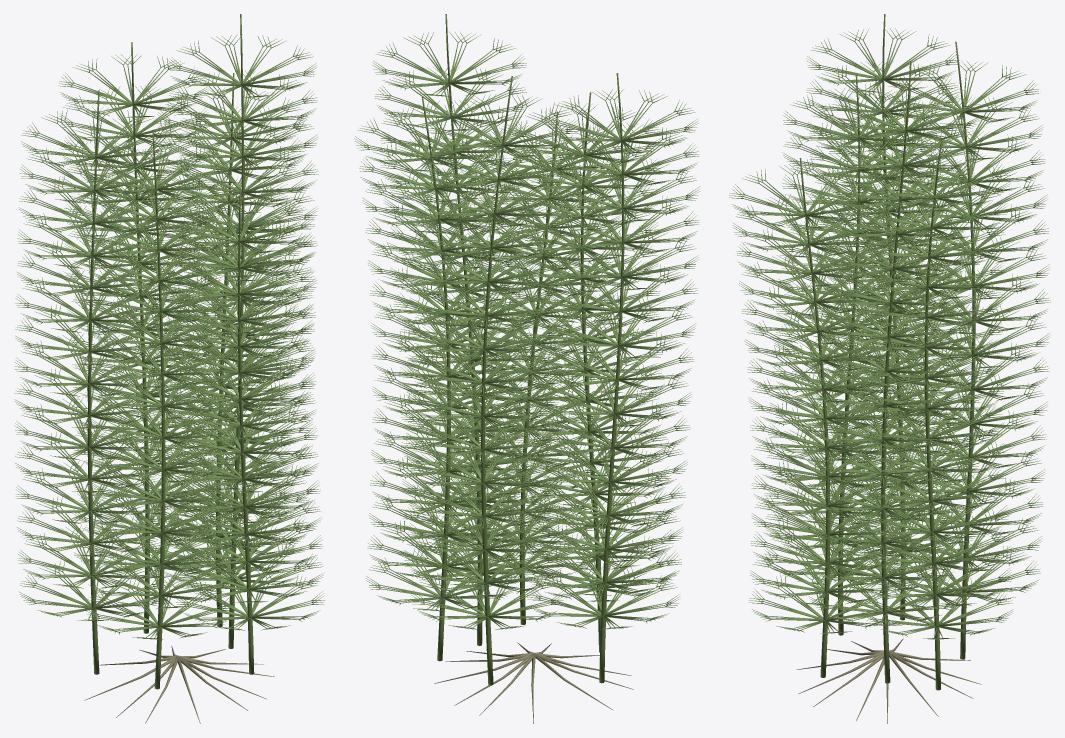
File: limno-desktop.glb
The picture shows the model from 3 angles, left to right: view 1: azimuth 30°, elevation 25°; view 2: azimuth 150°, elevation 25°; view 3: azimuth 270°, elevation 25°; orthographic projection. The views are drawn at different scales.
Parts seen in each view (by area): view 1: dissected-leaf-ray, pinnule, branching-stem, anchoring-root; view 2: dissected-leaf-ray, pinnule, branching-stem, anchoring-root; view 3: dissected-leaf-ray, pinnule, branching-stem, anchoring-root.
Boxes of the visible parts, <box> form: dissected-leaf-ray: <box>28,45,311,637</box>; pinnule: <box>14,34,324,639</box>; branching-stem: <box>87,14,254,689</box>; anchoring-root: <box>84,645,274,723</box>; dissected-leaf-ray: <box>369,42,685,627</box>; pinnule: <box>354,32,699,629</box>; branching-stem: <box>421,14,624,685</box>; anchoring-root: <box>434,642,633,723</box>; dissected-leaf-ray: <box>744,39,1035,637</box>; pinnule: <box>729,28,1050,639</box>; branching-stem: <box>799,14,975,690</box>; anchoring-root: <box>797,638,981,723</box>.
Bounding box in the file's own units: 0.4415 × 0.9243 × 0.4107.
